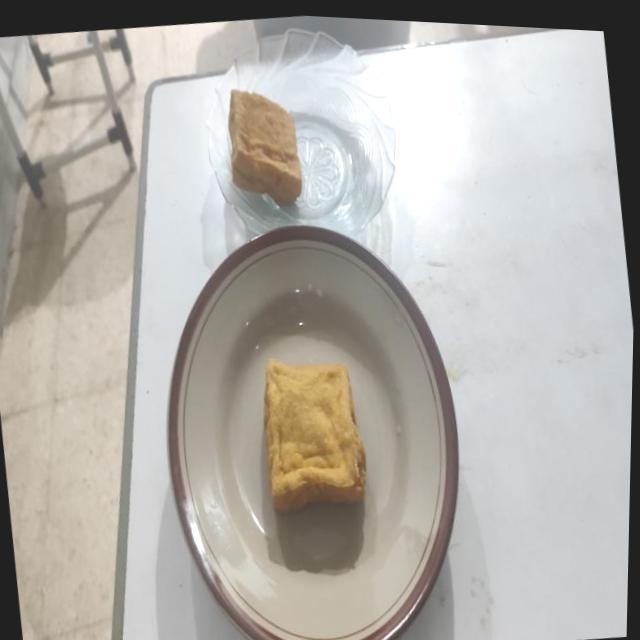tahu_goreng: (264, 358, 366, 511), (228, 89, 301, 203)
